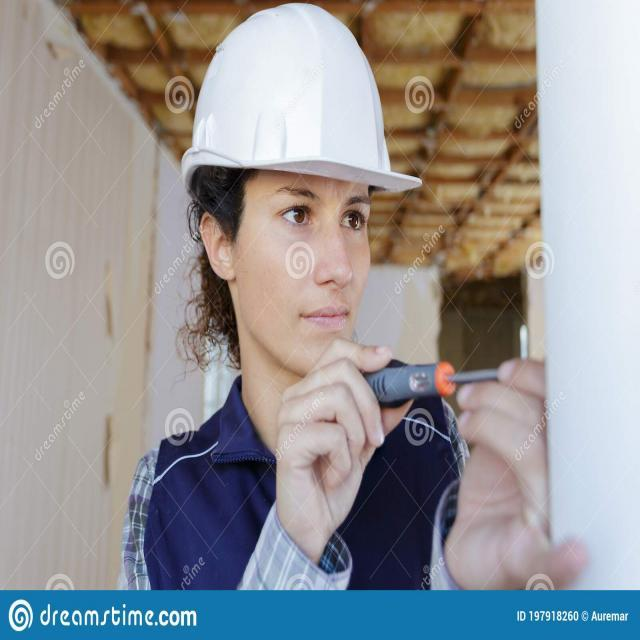screwdriver: (349, 344, 516, 417)
